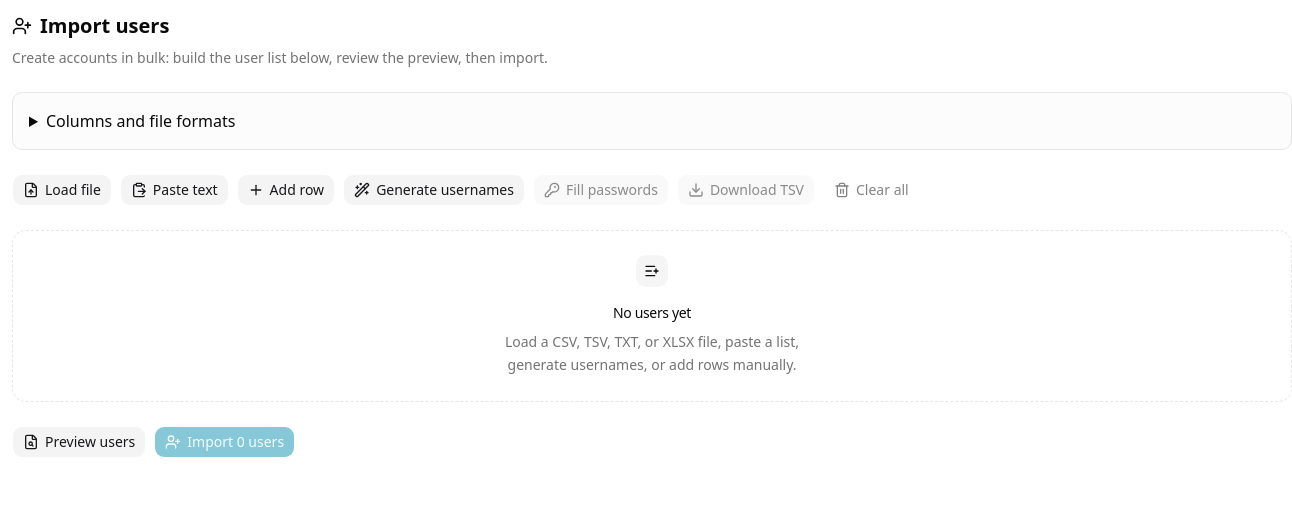
Test: user import workflow › requires at least one user before previewing
Click the button "Preview users" at [79, 442], box [12, 426, 146, 458]
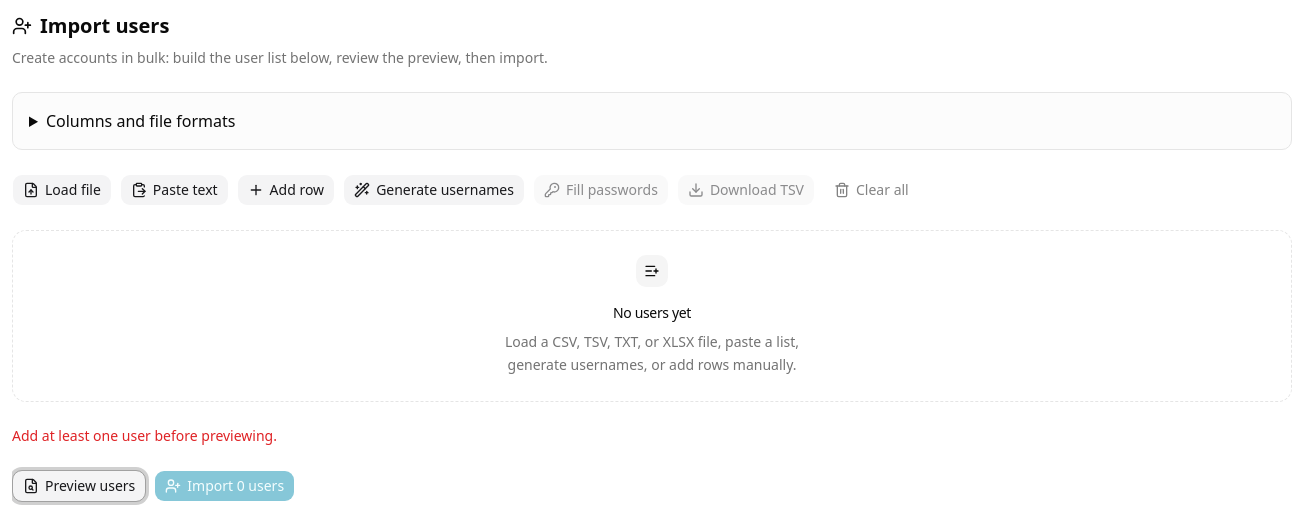
Expected: the text "Add at least one user before previewing." is shown, [12, 426, 277, 444]
